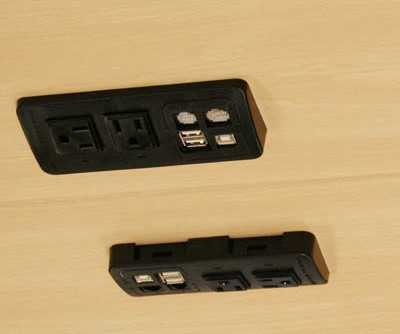outlet: (49, 117, 95, 155), (109, 113, 147, 149), (258, 271, 294, 289), (210, 275, 244, 293)
